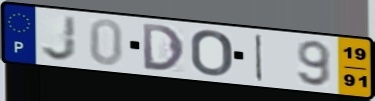0: (86, 17, 126, 69)
9: (295, 39, 334, 89)
D: (140, 22, 187, 73)
I: (254, 32, 265, 83)
J: (39, 13, 79, 62)
O: (188, 28, 235, 78)
